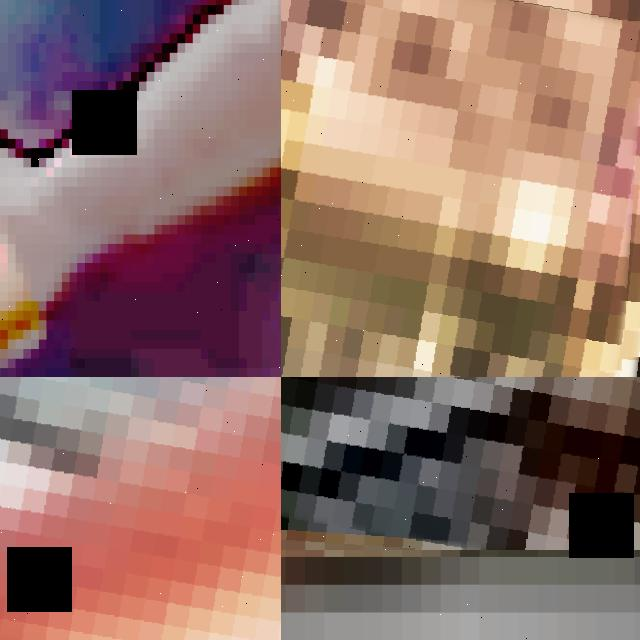arms: (281, 0, 640, 377), (0, 377, 281, 640), (281, 377, 640, 549)
